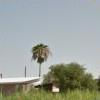Palm tree: (29, 40, 50, 72)
